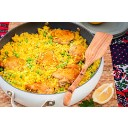briyani: (2, 33, 87, 85)
